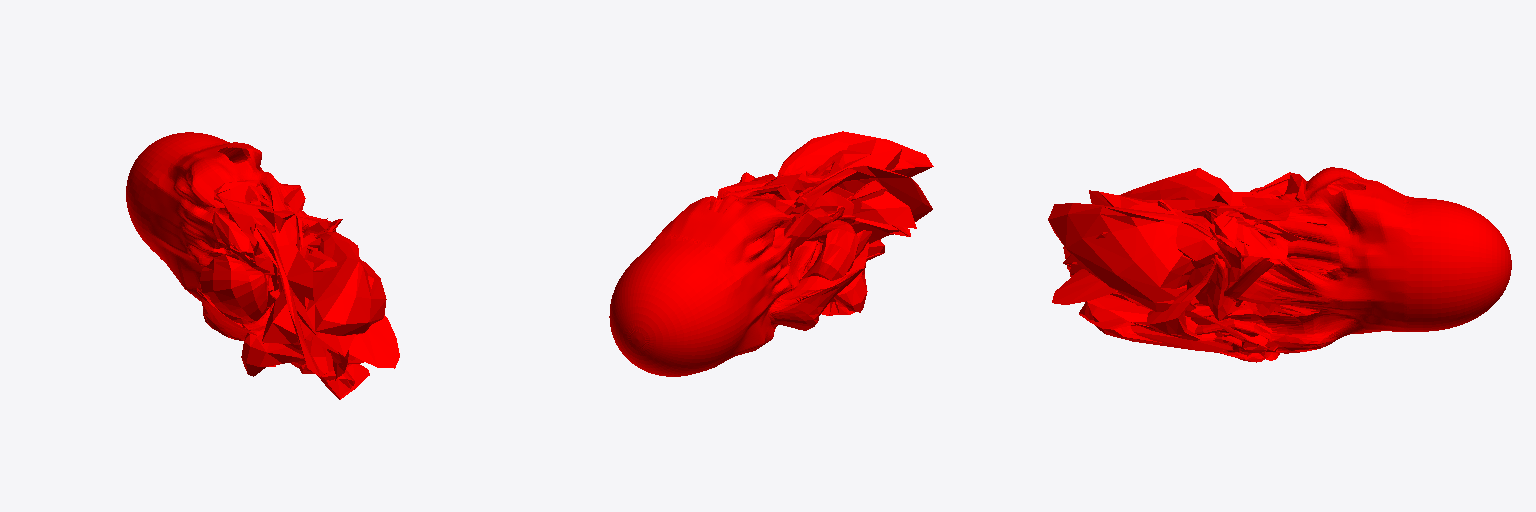
File: fire.obj
3 views of the same model, side by side, from view 1: azimuth 30°, elevation 25°; view 2: azimuth 150°, elevation 25°; view 3: azimuth 270°, elevation 25° (orthographic).
Visible parts, largest first — view 1: Sphere001_Mesh; view 2: Sphere001_Mesh; view 3: Sphere001_Mesh.
Boxes of the visible parts, x1=… form: Sphere001_Mesh: x1=126, y1=132, x2=399, y2=399; Sphere001_Mesh: x1=609, y1=131, x2=933, y2=376; Sphere001_Mesh: x1=1048, y1=167, x2=1511, y2=362.
Bounding box in the file's own units: 1.74 × 1.81 × 4.87.